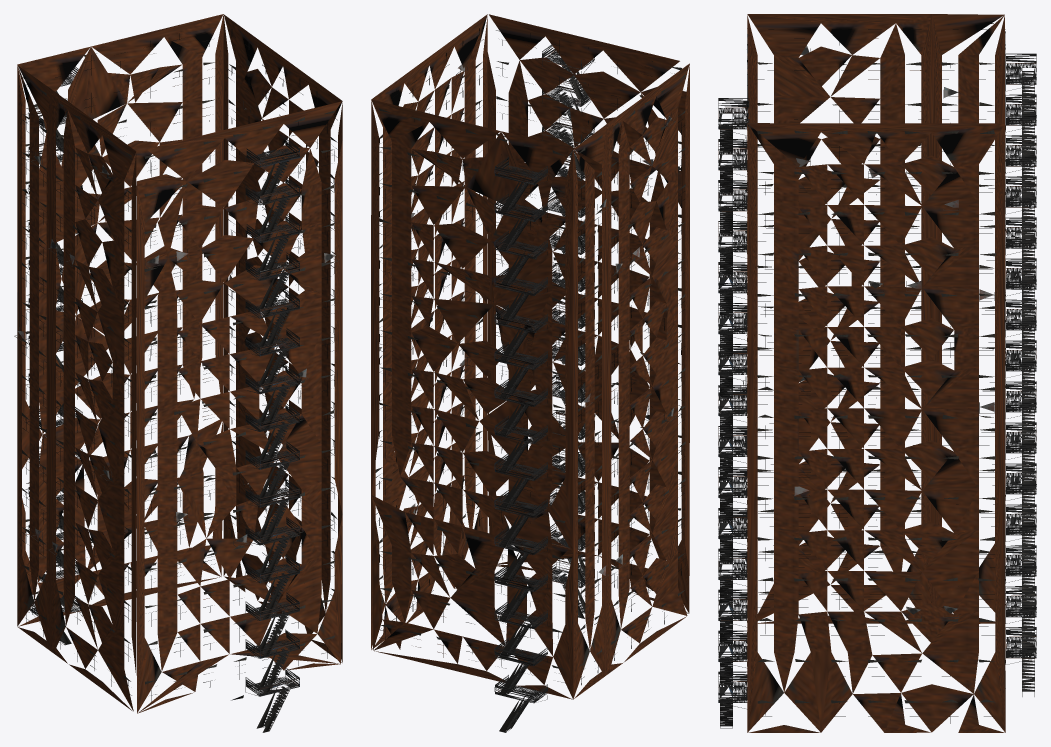
3 renders of one model, left to right at view 1: azimuth 30°, elevation 25°; view 2: azimuth 150°, elevation 25°; view 3: azimuth 270°, elevation 25°, orthographic. The views are drawn at different scales.
Parts seen in each view (by area): view 1: Building-Medium-01-BAKED.001; view 2: Building-Medium-01-BAKED.001; view 3: Building-Medium-01-BAKED.001.
Boxes of the visible parts, x1,y1,x2,y2 form: Building-Medium-01-BAKED.001: [14, 14, 342, 732]; Building-Medium-01-BAKED.001: [371, 14, 689, 732]; Building-Medium-01-BAKED.001: [718, 14, 1036, 732].
Bounding box in the file's own units: 12.67 × 33.36 × 14.81.
Materials: 1 (1 with a texture image).
